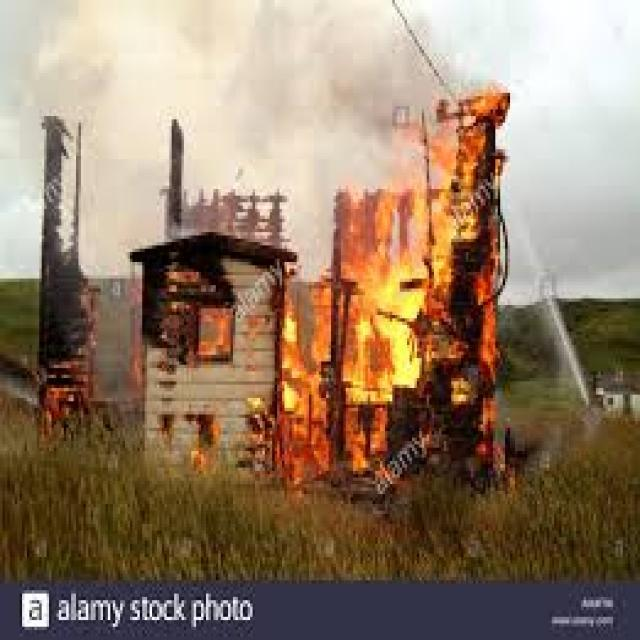Fire: (328, 194, 448, 406), (282, 316, 326, 451)
Smoke: (36, 2, 388, 178)
